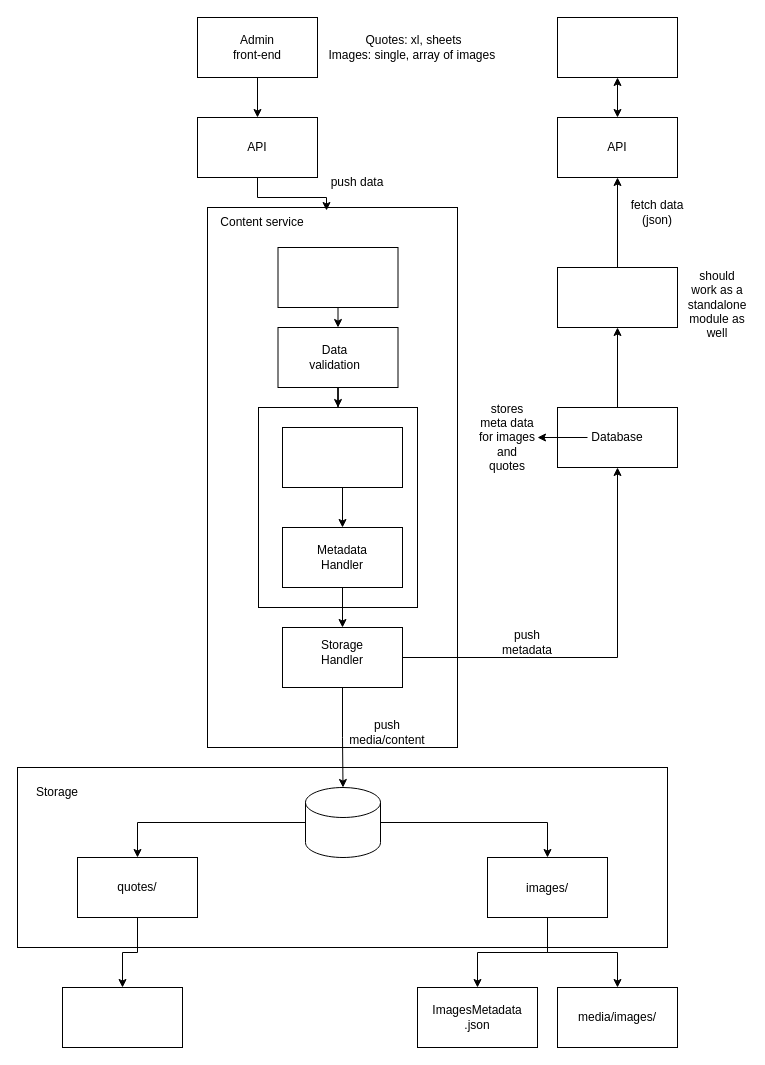
Image size: 765x1065. Some labels were removed from this diagram. Here are the shapes that lost their labels. From the top down, the centre of each, then its label:
At point 617,47: "Client Application".
At point 337,277: "Upload Handler".
At point 617,297: "JSON handler".
At point 342,457: "JSON Convertor".
At point 342,822: "S3 Storage Bucket".
At point 122,1017: "Quotes.json".
